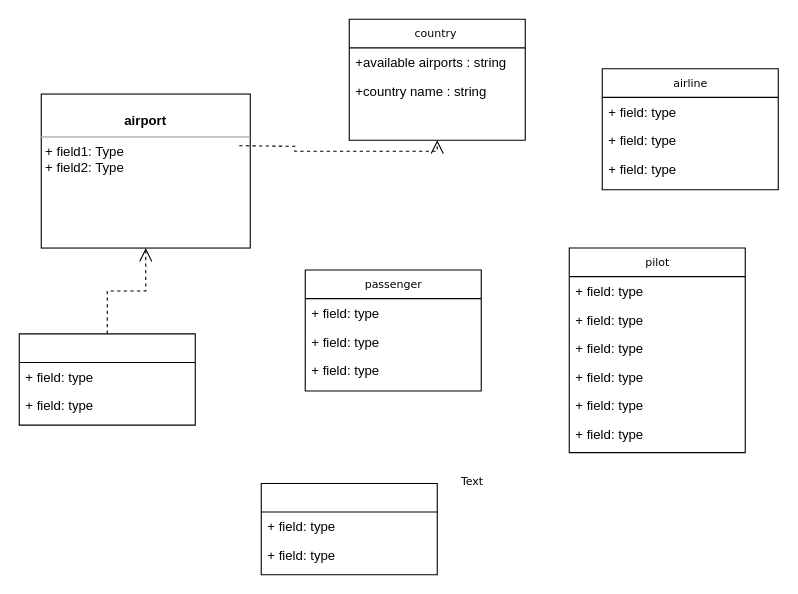
Some shapes in this 798 by 594 pixel diagram are drawn without their labels. The box of each missing label's shape, as (x1, y1, x2, y2) in pixels:
flight: (18, 333, 195, 425)
seat: (260, 482, 437, 575)
